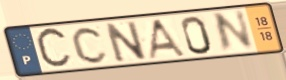0: (179, 14, 215, 56)
A: (146, 17, 189, 61)
C: (33, 25, 74, 72), (70, 25, 110, 65)
N: (211, 8, 256, 55), (102, 19, 149, 64)
